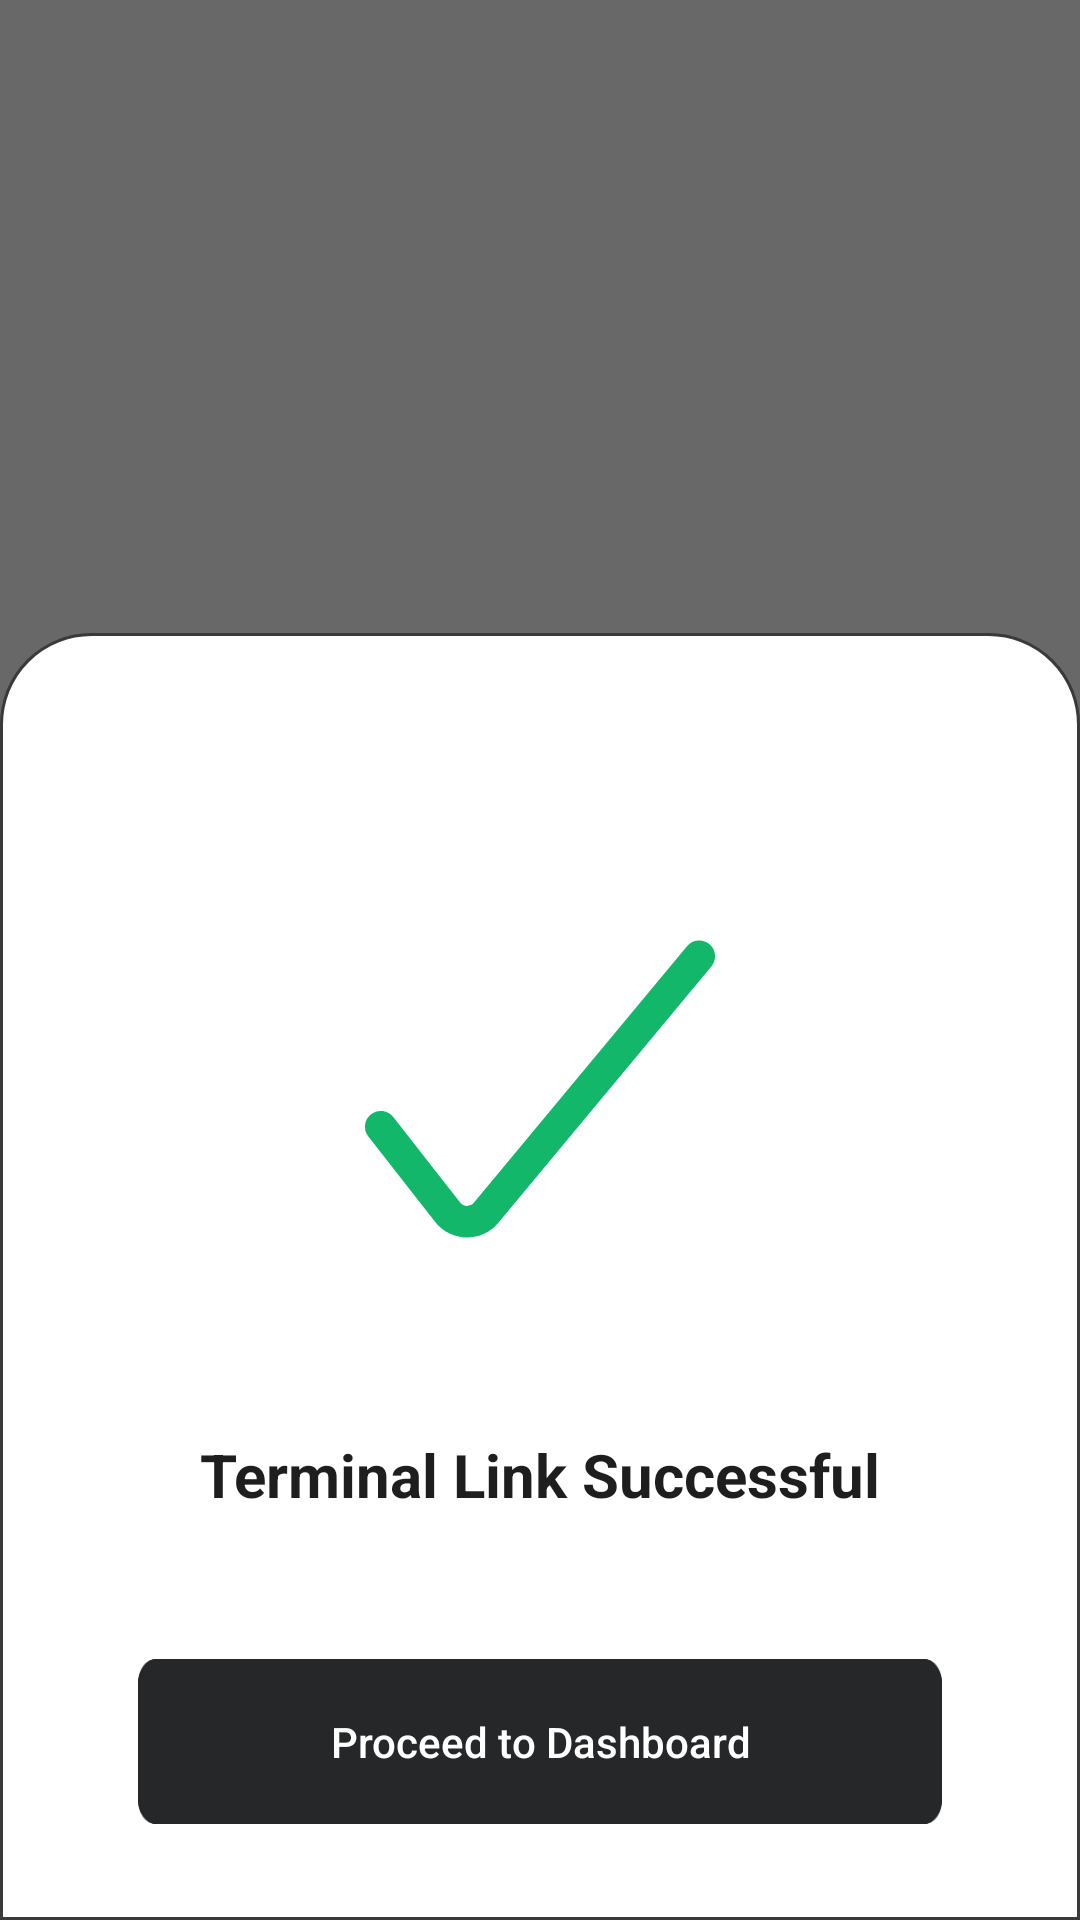

Icons on this 1080x1920 Android screen, each with its box as (x1, y1, x2, y2):
success: (365, 940, 715, 1238)
